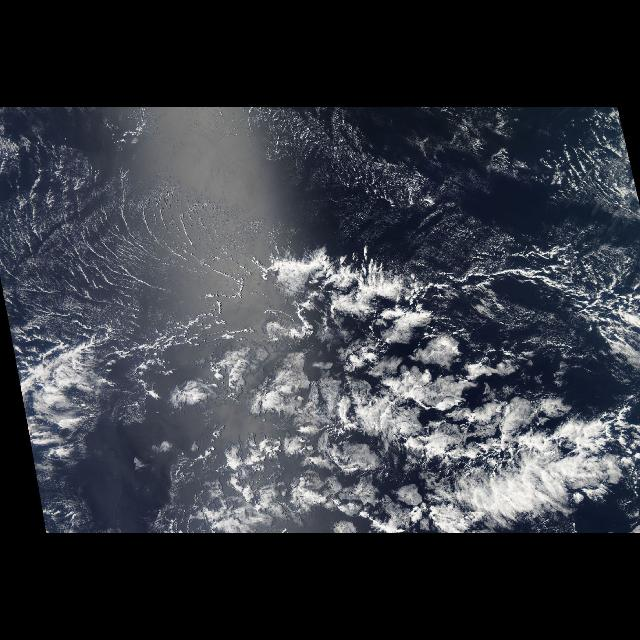Flower: (223, 300, 517, 472)
Sugar: (2, 108, 524, 348)
